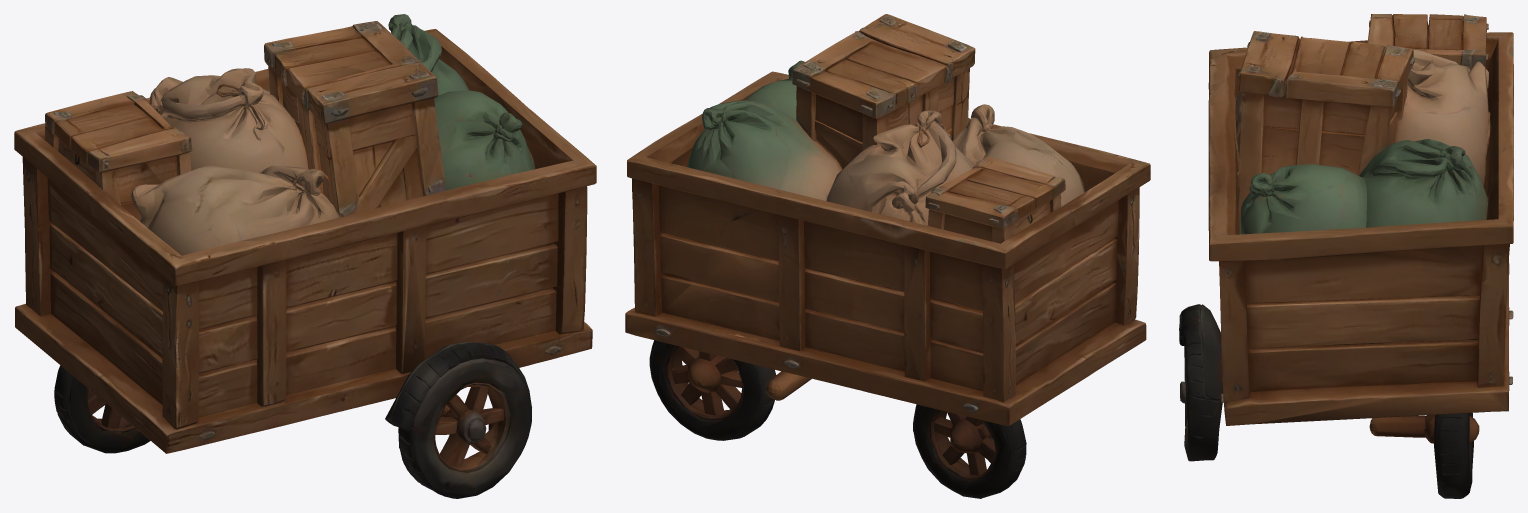
3 renders of one model, left to right at view 1: azimuth 30°, elevation 25°; view 2: azimuth 150°, elevation 25°; view 3: azimuth 270°, elevation 25°, orthographic. The views are drawn at different scales.
Parts seen in each view (by area): view 1: model; view 2: model; view 3: model.
Boxes of the visible parts, x1,y1,x2,y2 form: model: [14, 14, 596, 498]; model: [625, 14, 1150, 498]; model: [1179, 14, 1513, 498].
Bounding box in the file's own units: 1.9 × 1.72 × 1.36.
1 material, 1 textured.
